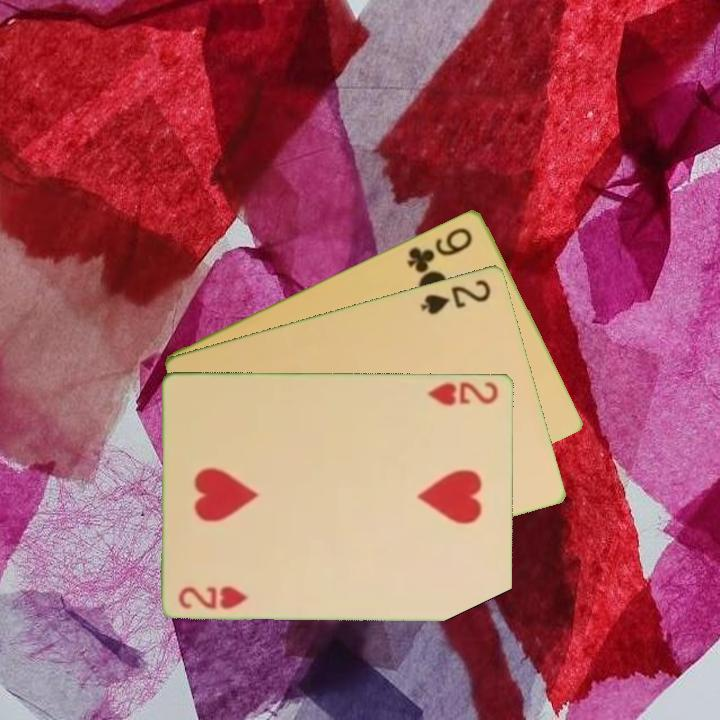2h: (424, 377, 501, 408), (176, 582, 251, 612)
2s: (417, 275, 494, 317)
9c: (403, 223, 476, 275)
